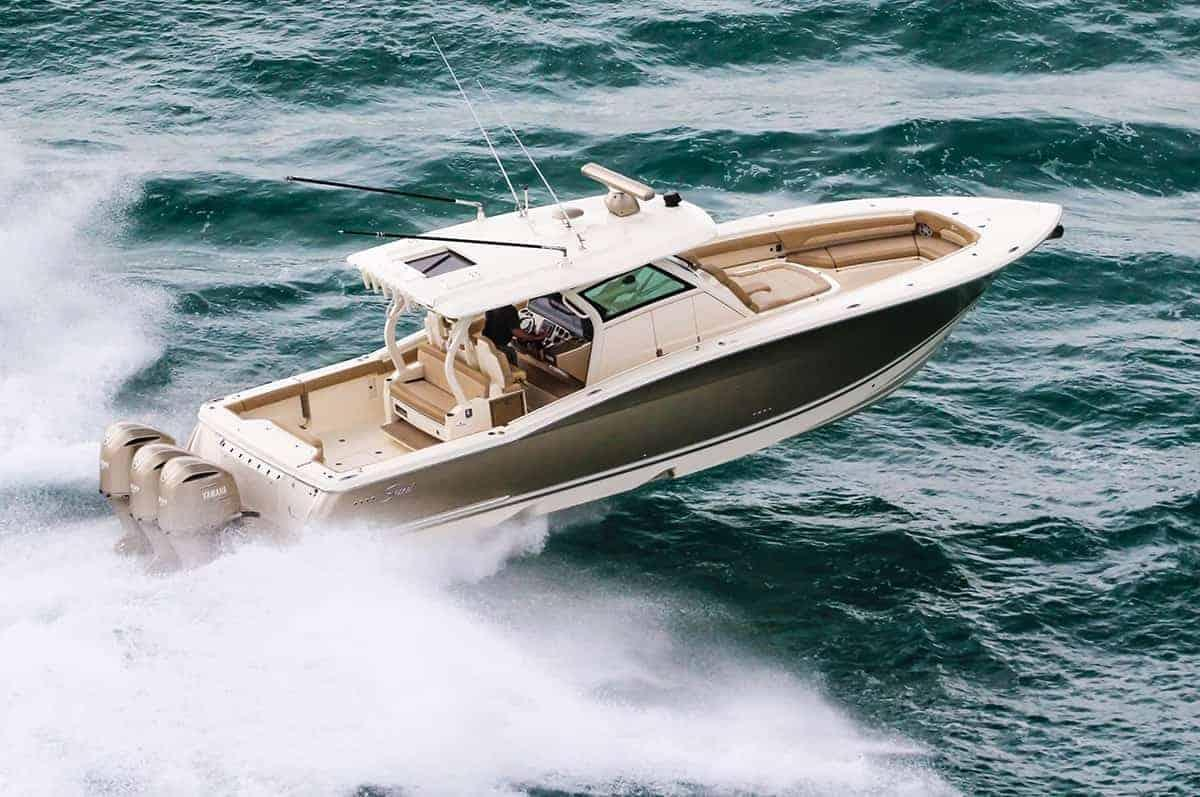fishing boat: (92, 32, 1071, 583)
